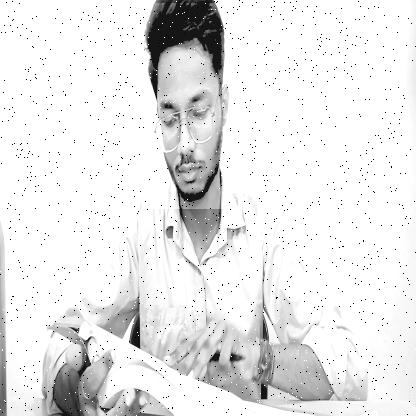Distracted: (145, 3, 230, 209)
